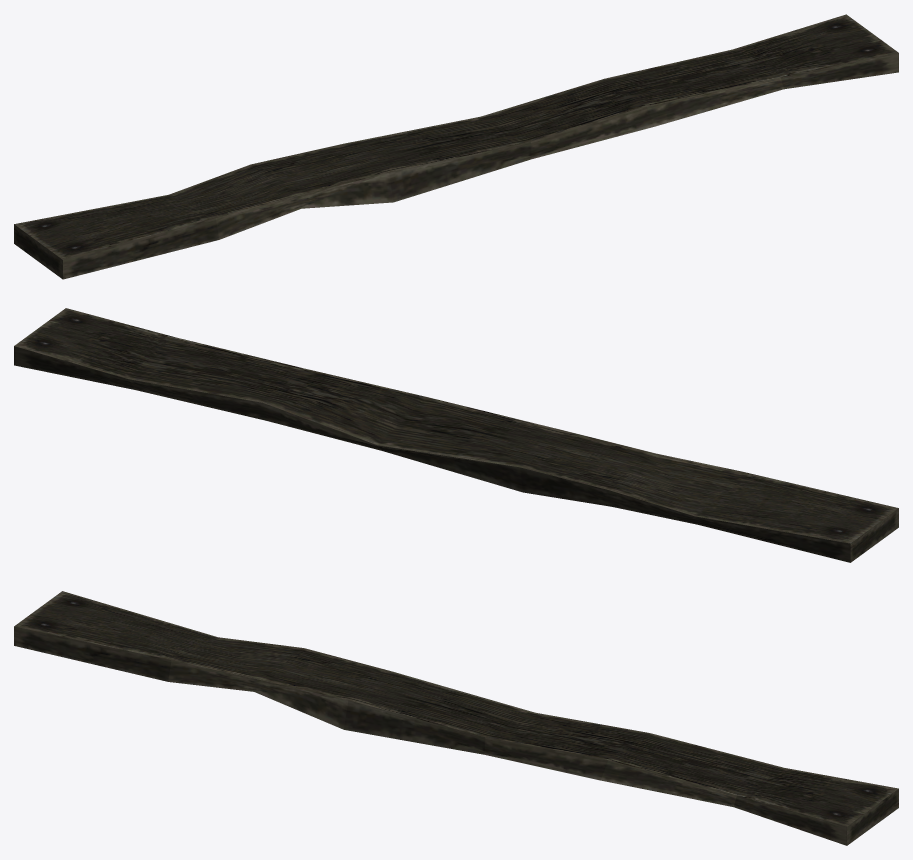
File: plank02_4.5m.dae
3 renders of one model, top to bottom at view 1: azimuth 30°, elevation 25°; view 2: azimuth 150°, elevation 25°; view 3: azimuth 330°, elevation 25°, orthographic.
Parts seen in each view (by area): view 1: polySurface32; view 2: polySurface32; view 3: polySurface32.
Boxes of the visible parts, x1,y1,x2,y2 form: polySurface32: [14, 14, 898, 279]; polySurface32: [14, 308, 898, 562]; polySurface32: [14, 591, 898, 845].
Bounding box in the file's own units: 4.4 × 0.1652 × 0.5091.
